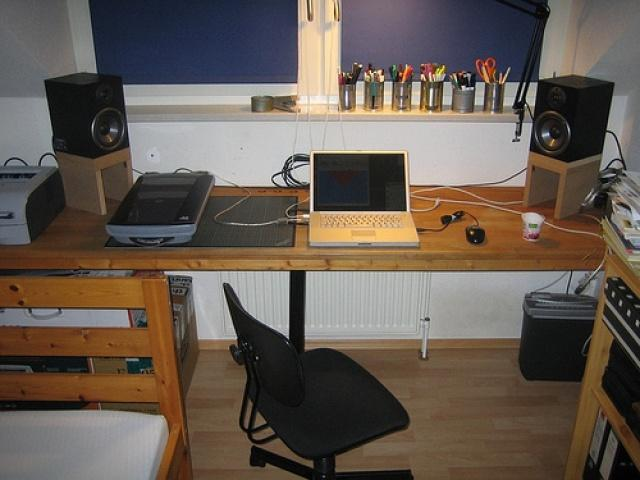Kursi: (221, 282, 413, 479)
Meja: (0, 182, 607, 271)
